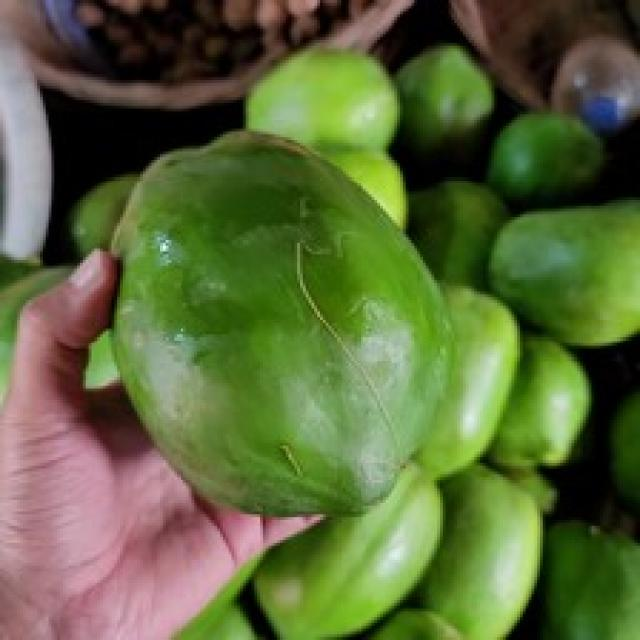Pepaya unrippen: (100, 125, 464, 526)
